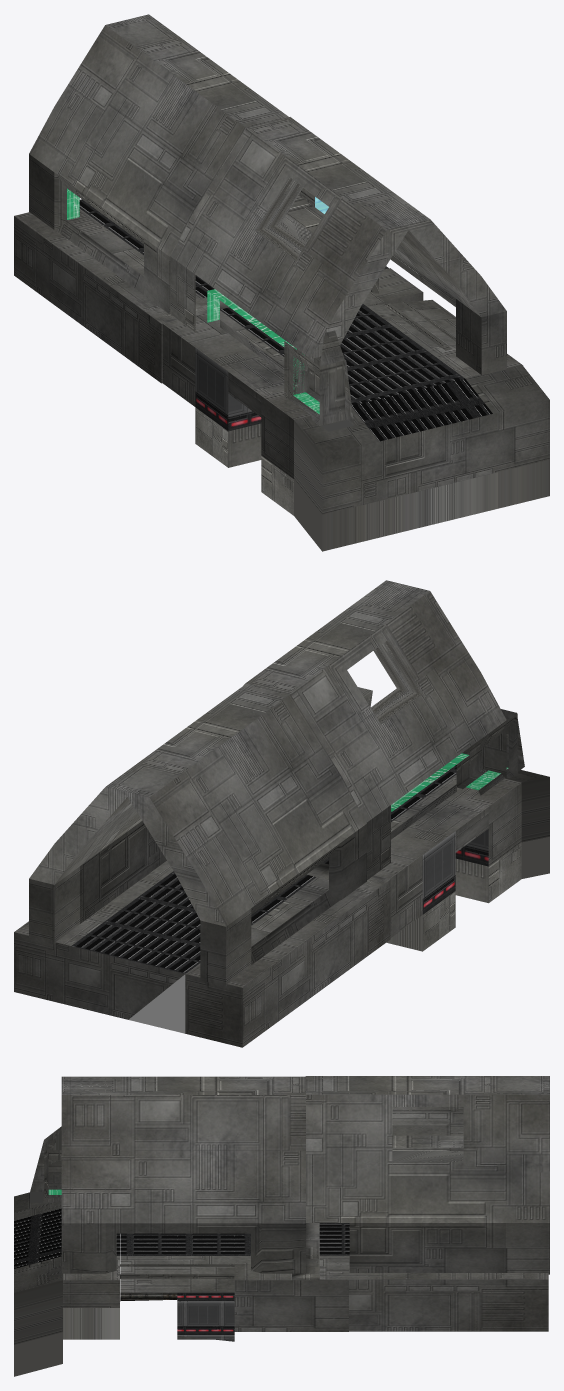
File: room4.gltf
3 views of the same model, one above another, from view 1: azimuth 30°, elevation 25°; view 2: azimuth 150°, elevation 25°; view 3: azimuth 270°, elevation 25° (orthographic). The views are drawn at different scales.
Visible parts, largest first — view 1: polymsh18, polymsh16, polymsh_detached61, polymsh_extracted17, polymsh_extracted; view 2: polymsh16, polymsh18, polymsh_detached61, polymsh_extracted17, polymsh_extracted; view 3: polymsh18, polymsh16, polymsh_detached61, polymsh_extracted17.
Part boxes in pixels (left/top/right/bottom): polymsh18: left=162, top=117, right=549, bottom=551; polymsh16: left=14, top=14, right=388, bottom=383; polymsh_detached61: left=228, top=324, right=523, bottom=431; polymsh_extracted17: left=284, top=330, right=344, bottom=425; polymsh_extracted: left=194, top=275, right=302, bottom=373; polymsh16: left=14, top=683, right=390, bottom=1047; polymsh18: left=243, top=580, right=549, bottom=951; polymsh_detached61: left=391, top=790, right=488, bottom=866; polymsh_extracted17: left=456, top=713, right=517, bottom=795; polymsh_extracted: left=391, top=753, right=469, bottom=839; polymsh18: left=14, top=1076, right=348, bottom=1376; polymsh16: left=292, top=1076, right=549, bottom=1331; polymsh_detached61: left=120, top=1233, right=177, bottom=1301; polymsh_extracted17: left=44, top=1126, right=61, bottom=1202.
Size of the model in its own units: 16.72 by 18.73 by 37.48.
Materials: 8 (7 with a texture image).
